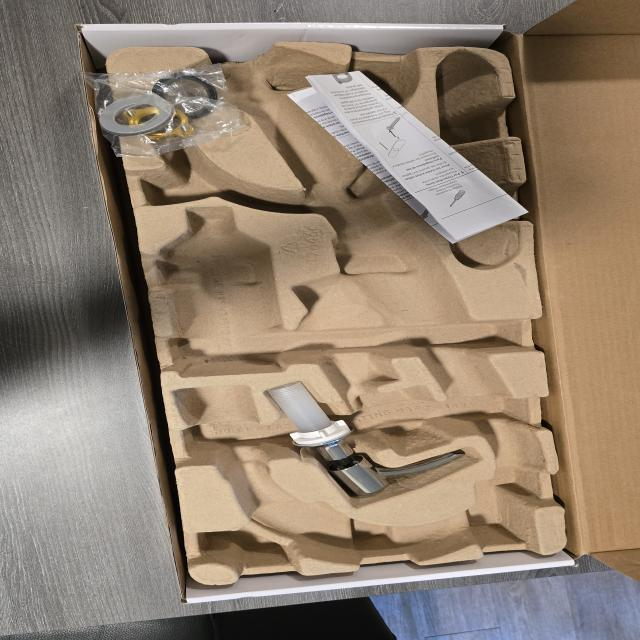1m: (170, 41, 544, 560)
2: (263, 381, 465, 496)
3m: (157, 207, 282, 375)
4m: (424, 51, 518, 268)
5m: (348, 67, 409, 116)
6: (78, 62, 249, 160)
7m: (143, 154, 270, 205)
8: (283, 69, 532, 246)
